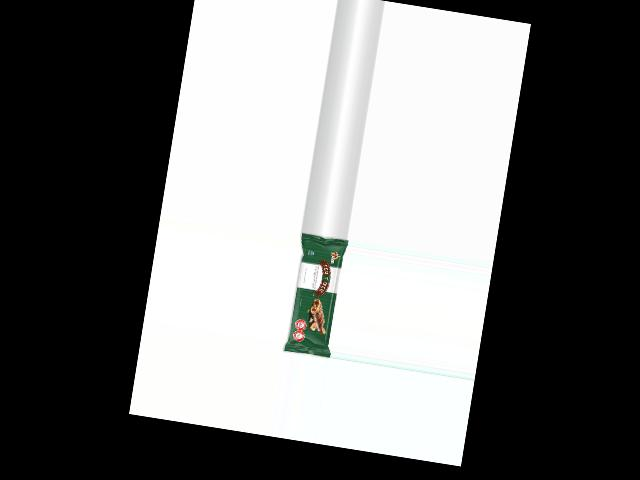chocolate: (280, 230, 348, 358)
